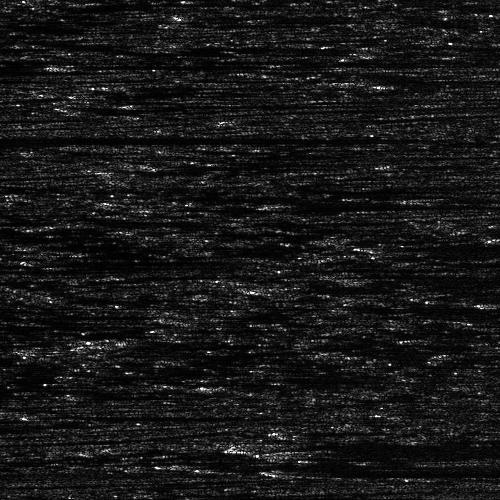object: (420, 297, 500, 308), (240, 283, 313, 294), (300, 78, 383, 85), (33, 62, 86, 67)
shadow: (341, 78, 494, 85), (60, 62, 273, 67), (277, 283, 343, 294), (0, 41, 32, 48)
